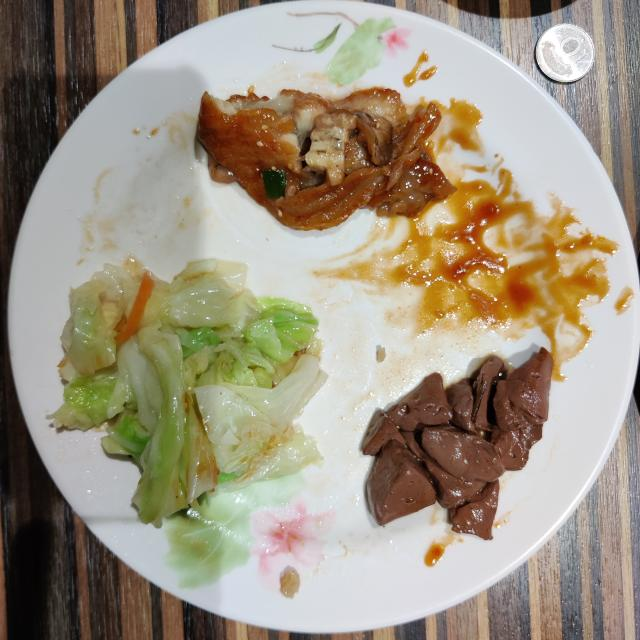Kabayaki sea bream fillet: (198, 88, 455, 230)
cabbage: (49, 259, 325, 524)
coin: (535, 24, 595, 82)
pig blood curd: (362, 348, 552, 539)
